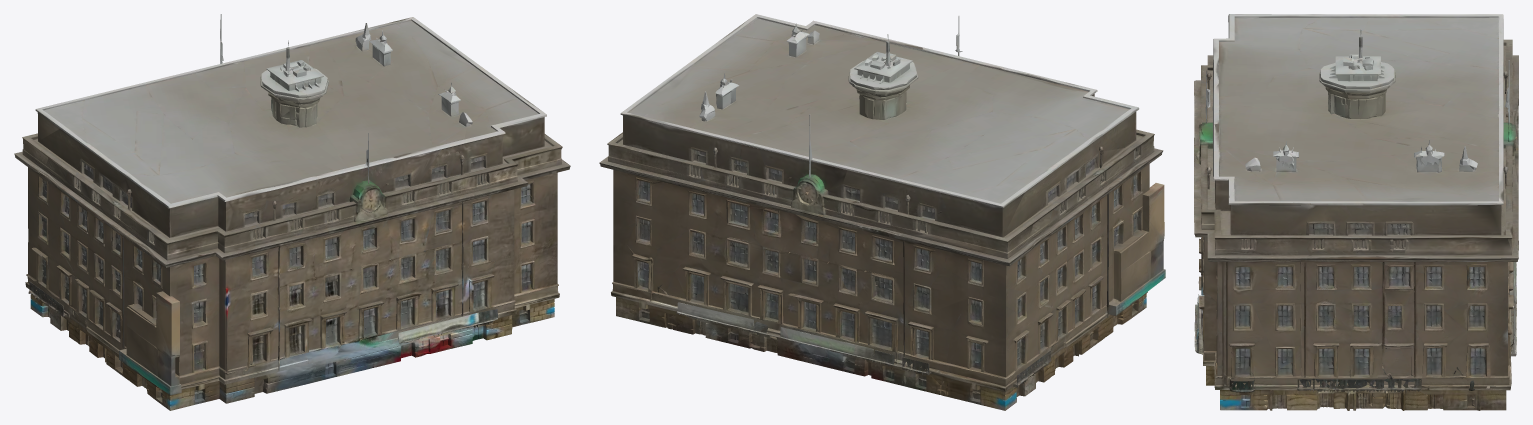
The model's file is demo-guildhall.glb.
The picture shows the model from 3 angles, left to right: view 1: azimuth 30°, elevation 25°; view 2: azimuth 150°, elevation 25°; view 3: azimuth 270°, elevation 25°; orthographic projection. The views are drawn at different scales.
Visible parts, largest first — view 1: model; view 2: model; view 3: model.
Boxes of the visible parts, box(x1,y1,x2,y2) form: model: box(14, 14, 570, 410); model: box(599, 14, 1165, 410); model: box(1194, 14, 1518, 410).
Size of the model in its own units: 1.89 by 1.22 by 1.28.
1 material, 1 textured.
